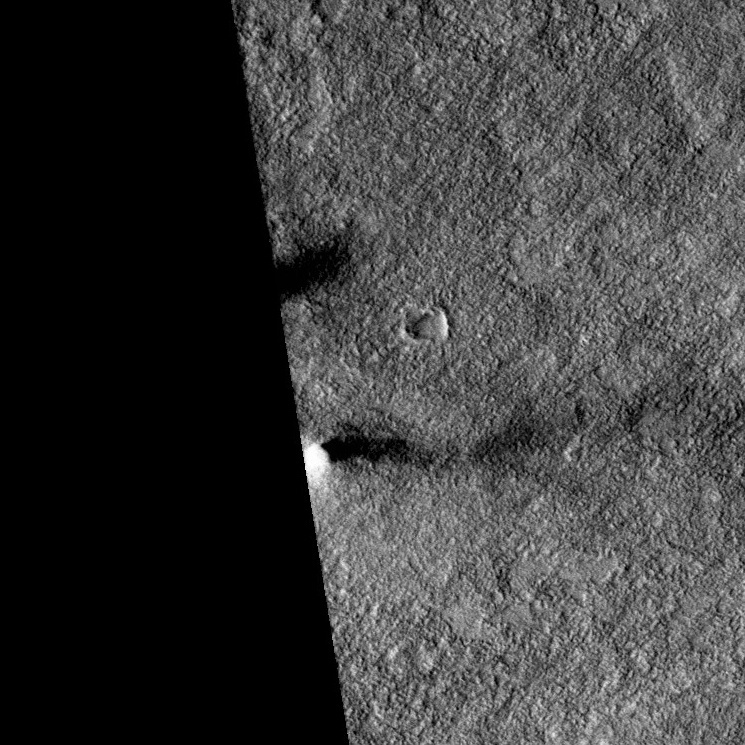dust_devil: (298, 421, 429, 484)
